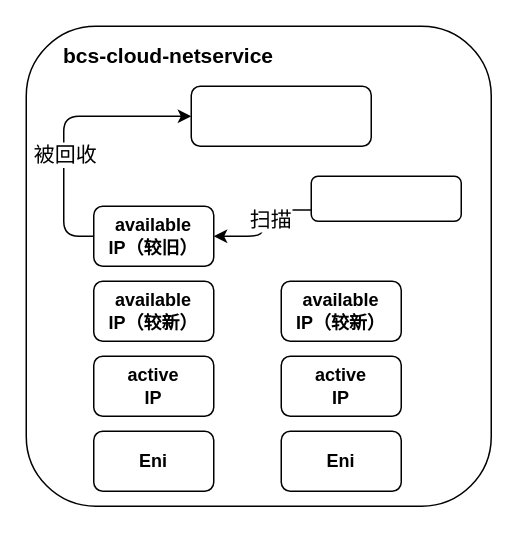
This 518x533 diagram has some shape labels left out. The centre of each missing label's shape, as x and y in pixels:
"IP cleaner" belongs at (385,198).
"Subnet Pool" belongs at (280,115).
